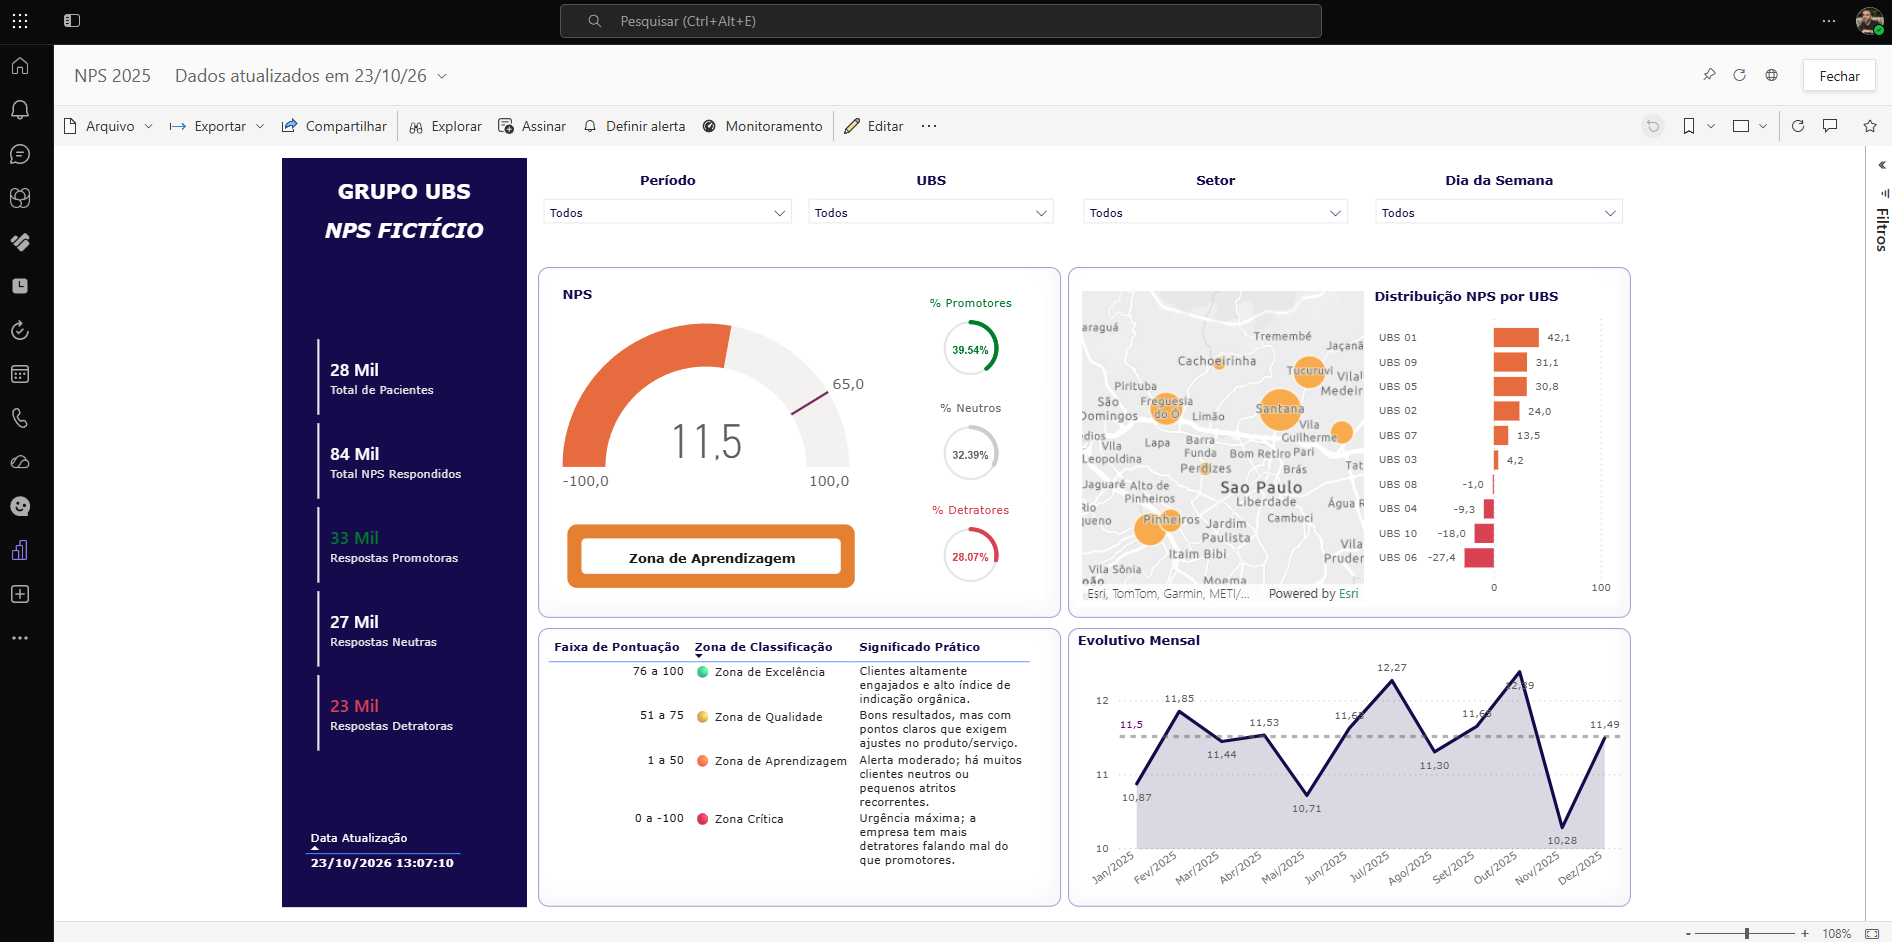

What the dashboard file says about the page in this screenshot:
{"tool":"powerbi","page":{"name":"Gerencial","canvas":[1280,720],"ordinal":0},"visuals":[{"type":"shape","box":[740.1,112,523.5,325.9],"z":0},{"type":"shape","box":[247.6,112,486.1,325.9],"z":1000},{"type":"shape","box":[10,10.9,227.6,696.4],"z":2000},{"type":"slicer","title":"UBS","fields":{"Values":["DIM_UBS.Zona","DIM_UBS.Bairro","DIM_UBS.Nome UBS"]},"box":[493.4,13.7,240,90],"z":3000},{"type":"gauge","fields":{"Y":["@Medidas.NPS"]},"box":[265.8,130.2,295.9,213.9],"z":4000},{"type":"clusteredBarChart","title":"Distribuição NPS por UBS","fields":{"Category":["DIM_UBS.Nome UBS"],"Y":["@Medidas.NPS"]},"box":[1020.5,132,230.3,294.1],"z":5000},{"type":"cardVisual","fields":{"Data":["@Medidas.Total de Pacientes","@Medidas.Total NPS Respondidos","@Medidas.Promotores","@Medidas.Neutros","@Medidas.Detratores"]},"box":[26.4,163,194.8,420.6],"z":6000},{"type":"tableEx","fields":{"Values":["DIM_NPS_LEGENDA.Faixa de Pontuação","DIM_NPS_LEGENDA.Zona de Classificação","DIM_NPS_LEGENDA.Significado Prático"]},"box":[247.6,447.9,486.1,259.5],"z":7000},{"type":"textbox","box":[14.6,25.5,217.6,78.3],"z":8000},{"type":"slicer","title":"Setor","fields":{"Values":["FATO_NPS.setor"]},"box":[748.3,13.7,257.6,90.1],"z":9000},{"type":"areaChart","title":"Evolutivo Mensal","fields":{"Category":["DIM_CALENDARIO.Mês/Ano"],"Y":["@Medidas.NPS"]},"box":[740.1,447.9,523.5,259.5],"z":10000},{"type":"slicer","title":"Período","fields":{"Values":["DIM_CALENDARIO.Ano","DIM_CALENDARIO.Mês/Ano"]},"box":[246.7,13.5,243.1,90.1],"z":11000},{"type":"slicer","title":"Dia da Semana","fields":{"Values":["DIM_CALENDARIO.Dia da Semana"]},"box":[1020.5,13.5,242,90],"z":12000},{"type":"payPalKPIDonutChart55A431AB15A540ED924ACD72ED8D259F","fields":{"myvalue":["@Medidas.% Promotores"]},"box":[581.7,138.4,136.6,85.6],"z":13000},{"type":"payPalKPIDonutChart55A431AB15A540ED924ACD72ED8D259F","fields":{"myvalue":["@Medidas.% Neutros"]},"box":[581.7,235.8,136.6,85.6],"z":14000},{"type":"payPalKPIDonutChart55A431AB15A540ED924ACD72ED8D259F","fields":{"myvalue":["@Medidas.% Detratores"]},"box":[581.7,330.5,136.6,85.6],"z":15000},{"type":"esriVisual","title":"Localização","fields":{"Location":["DIM_UBS.Endereço Completo"],"Size":["@Medidas.NPS"]},"box":[748.3,130.2,272.2,297.7],"z":16000},{"type":"tableEx","fields":{"Values":["DATA_ATUALIZAÇÃO.Data_Atualizacao"]},"box":[26.4,630,182.1,61.9],"z":17000},{"type":"cardVisual","fields":{"Data":["@Medidas.Zona_NPS"]},"box":[270.4,346.9,277.7,69.2],"z":18000}]}

Visuals, with their boxes on the page's 1280x720 design canvas (x1, y1, x2, y2). These are canvas units, not pixel positions in the 1892x942 screenshot, which may show the page scaled, cropped or inside an application window:
shape: [left=740, top=112, right=1264, bottom=438]
shape: [left=248, top=112, right=734, bottom=438]
shape: [left=10, top=11, right=238, bottom=707]
"UBS" slicer: [left=493, top=14, right=733, bottom=104]
gauge - @Medidas.NPS: [left=266, top=130, right=562, bottom=344]
"Distribuição NPS por UBS" clusteredBarChart: [left=1020, top=132, right=1251, bottom=426]
cardVisual - @Medidas.Total de Pacientes x @Medidas.Total NPS Respondidos: [left=26, top=163, right=221, bottom=584]
tableEx - DIM_NPS_LEGENDA.Faixa de Pontuação x DIM_NPS_LEGENDA.Zona de Classificação: [left=248, top=448, right=734, bottom=707]
textbox: [left=15, top=26, right=232, bottom=104]
"Setor" slicer: [left=748, top=14, right=1006, bottom=104]
"Evolutivo Mensal" areaChart: [left=740, top=448, right=1264, bottom=707]
"Período" slicer: [left=247, top=14, right=490, bottom=104]
"Dia da Semana" slicer: [left=1020, top=14, right=1262, bottom=104]
payPalKPIDonutChart55A431AB15A540ED924ACD72ED8D259F - @Medidas.% Promotores: [left=582, top=138, right=718, bottom=224]
payPalKPIDonutChart55A431AB15A540ED924ACD72ED8D259F - @Medidas.% Neutros: [left=582, top=236, right=718, bottom=321]
payPalKPIDonutChart55A431AB15A540ED924ACD72ED8D259F - @Medidas.% Detratores: [left=582, top=330, right=718, bottom=416]
"Localização" esriVisual: [left=748, top=130, right=1020, bottom=428]
tableEx - DATA_ATUALIZAÇÃO.Data_Atualizacao: [left=26, top=630, right=208, bottom=692]
cardVisual - @Medidas.Zona_NPS: [left=270, top=347, right=548, bottom=416]
